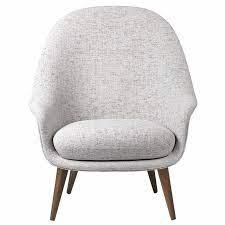chair: (20, 8, 197, 218)
